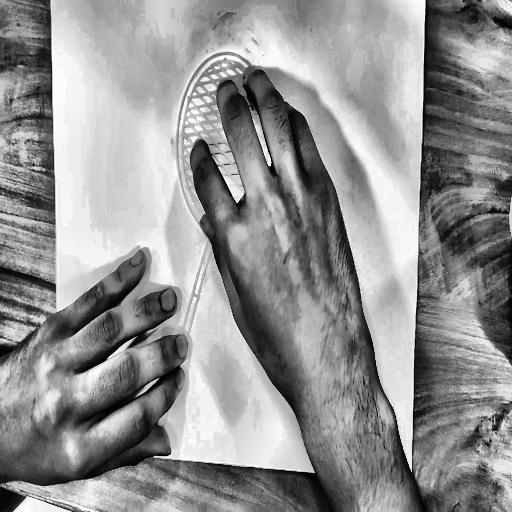badminton: (130, 41, 338, 458)
bottom_left: (60, 439, 66, 450)
bottom_right: (407, 469, 414, 483)
